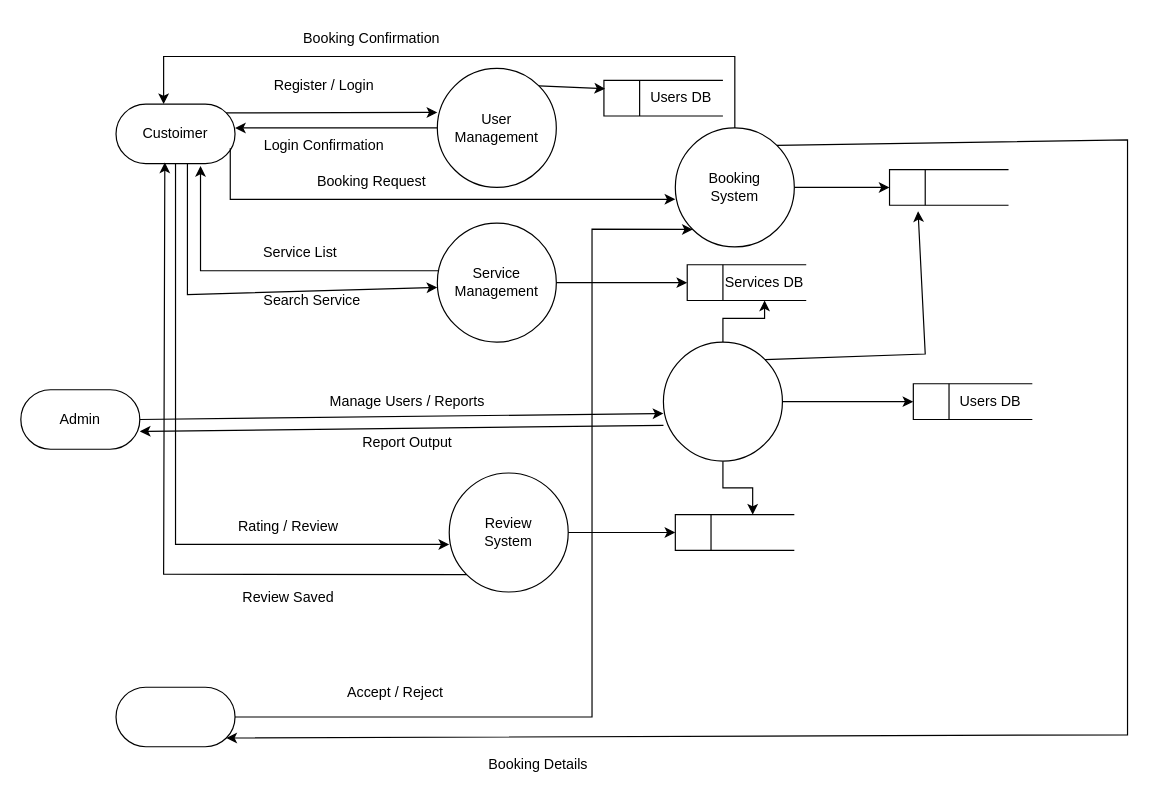
Image size: 1158x802. Some labels were removed from this diagram. Here are the shapes that lost their labels. From the top down, the centre of each, then its label:
[948,186]: Bookings DB
[722,401]: Admin Control
[734,531]: Reviews DB
[175,716]: Service Provider
